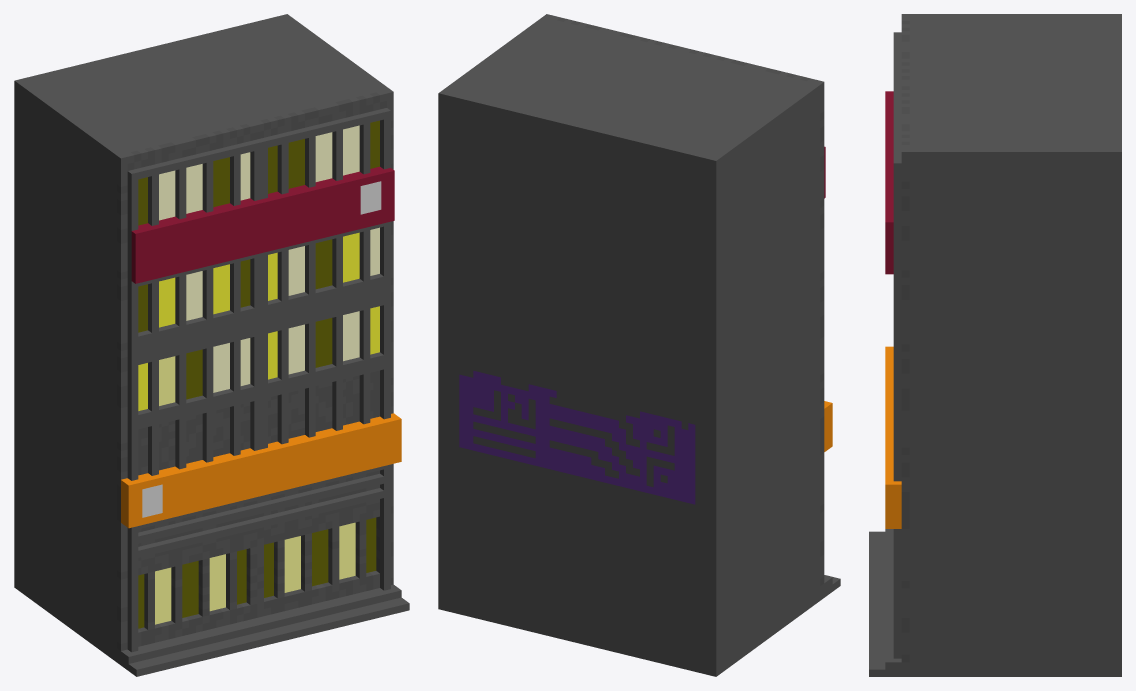
Rendered from edificio005.obj.
The picture shows the model from 3 angles, left to right: view 1: azimuth 30°, elevation 25°; view 2: azimuth 150°, elevation 25°; view 3: azimuth 270°, elevation 25°; orthographic projection. The views are drawn at different scales.
Size of the model in its own units: 4 by 7.1 by 3.1.
Materials: 1 (1 with a texture image).
